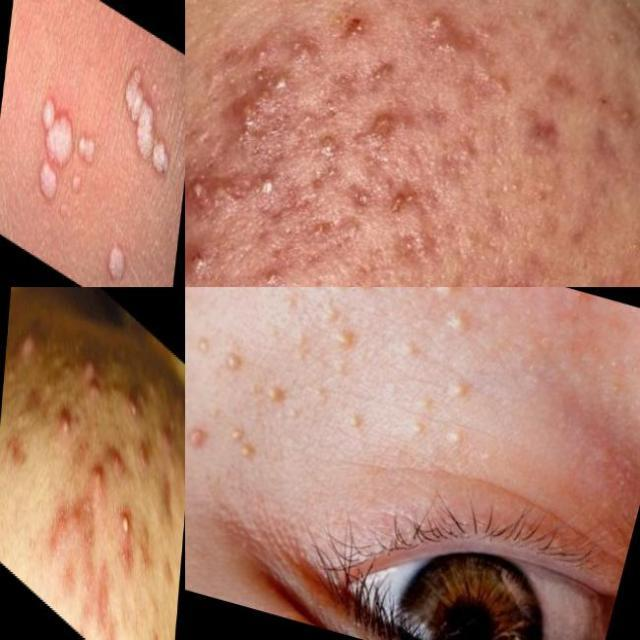Pimples: (299, 378, 529, 488), (185, 160, 266, 232), (304, 287, 383, 360), (414, 287, 506, 344), (509, 98, 574, 175), (230, 54, 287, 138), (413, 363, 495, 419), (284, 23, 336, 84), (74, 334, 110, 420), (587, 0, 640, 57), (361, 92, 404, 160), (292, 118, 347, 170), (388, 318, 440, 370), (219, 420, 260, 480), (262, 364, 300, 418), (185, 227, 219, 287), (421, 0, 467, 44), (185, 413, 218, 468), (481, 260, 546, 287), (19, 300, 39, 380), (54, 392, 76, 459), (88, 444, 109, 514), (221, 341, 254, 384), (117, 496, 136, 558), (136, 436, 152, 484), (128, 384, 140, 430)
